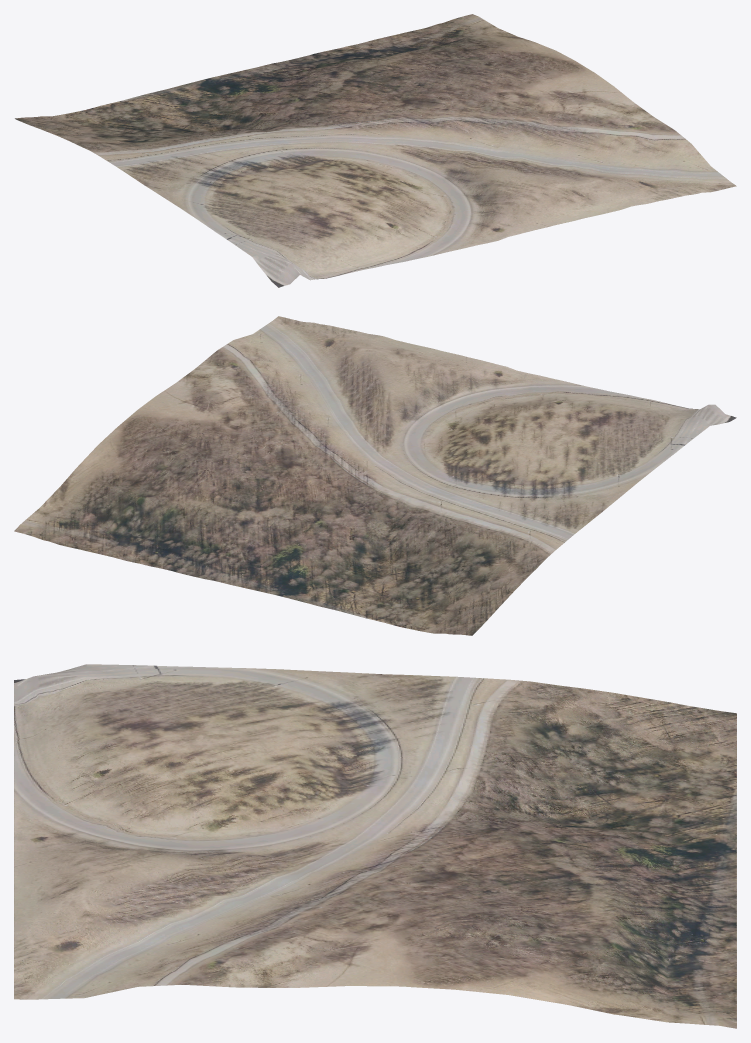
The model's file is CM_Terrain_24491482_6817951.fbx.
3 renders of one model, top to bottom at view 1: azimuth 30°, elevation 25°; view 2: azimuth 150°, elevation 25°; view 3: azimuth 270°, elevation 25°, orthographic. The views are drawn at different scales.
Visible parts, largest first — view 1: CM_Terrain_24491482_6817951_LOD0; view 2: CM_Terrain_24491482_6817951_LOD0; view 3: CM_Terrain_24491482_6817951_LOD0.
Part boxes in pixels (x1,y1,x2,y2): CM_Terrain_24491482_6817951_LOD0: [15, 14, 736, 287]; CM_Terrain_24491482_6817951_LOD0: [14, 316, 736, 635]; CM_Terrain_24491482_6817951_LOD0: [14, 664, 736, 1028].
Size of what is drawn, in the model's own units: 205 by 20.18 by 205.
